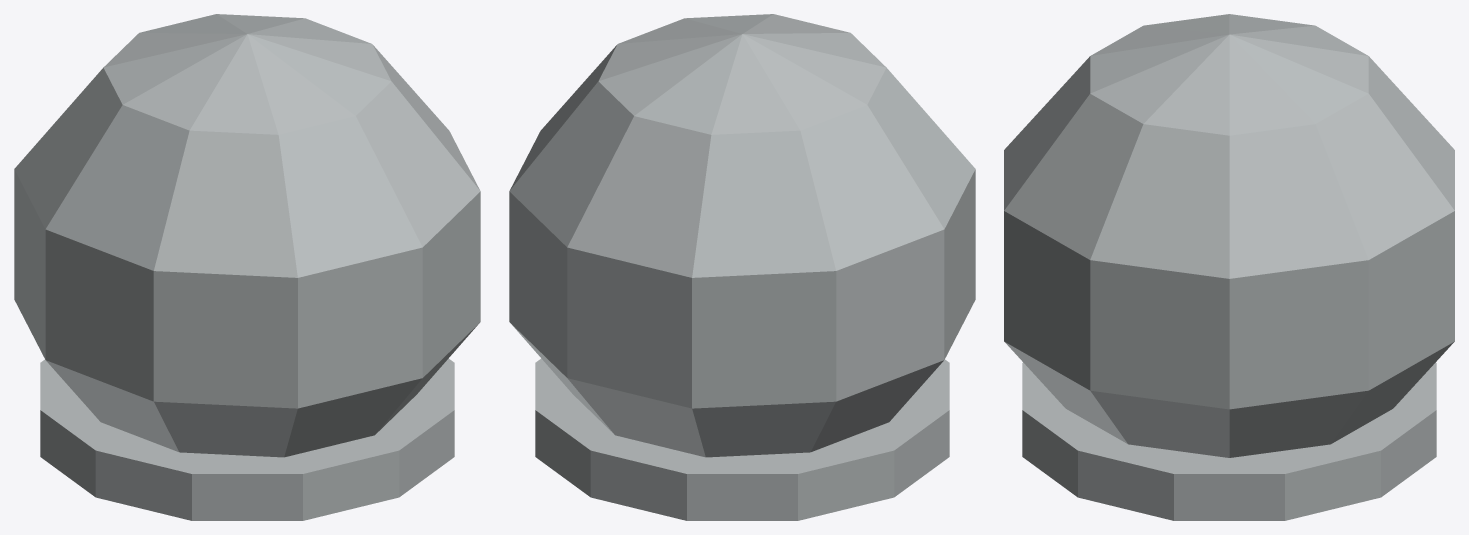
File: stoneball.obj
The picture shows the model from 3 angles, left to right: view 1: azimuth 30°, elevation 25°; view 2: azimuth 150°, elevation 25°; view 3: azimuth 270°, elevation 25°; orthographic projection.
Parts seen in each view (by area): view 1: sphere, cylinder; view 2: sphere, cylinder; view 3: sphere, cylinder.
Part boxes in pixels (bbox=[...]): sphere: bbox=[14, 14, 480, 457]; cylinder: bbox=[40, 358, 454, 520]; sphere: bbox=[509, 14, 975, 457]; cylinder: bbox=[535, 358, 949, 520]; sphere: bbox=[1004, 14, 1454, 457]; cylinder: bbox=[1022, 362, 1436, 520].
Size of the model in its own units: 1.12 by 1.06 by 1.09.
